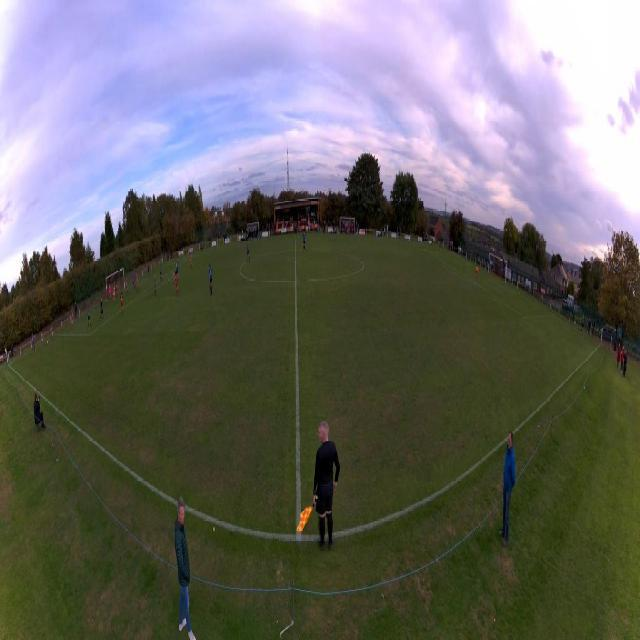ball: (47, 341, 48, 343)
player: (174, 271, 179, 297), (209, 263, 213, 295), (32, 332, 37, 354), (71, 311, 76, 329), (120, 292, 124, 314), (87, 306, 91, 328), (246, 240, 250, 262), (100, 299, 104, 321), (302, 231, 306, 251), (136, 273, 140, 291), (159, 264, 163, 281), (154, 274, 157, 295), (113, 287, 116, 305), (190, 252, 193, 269), (125, 278, 128, 295), (106, 289, 109, 305), (475, 266, 479, 278), (109, 284, 112, 299), (176, 260, 178, 279), (134, 272, 136, 290), (133, 274, 135, 290), (116, 283, 118, 297), (114, 282, 116, 296)
